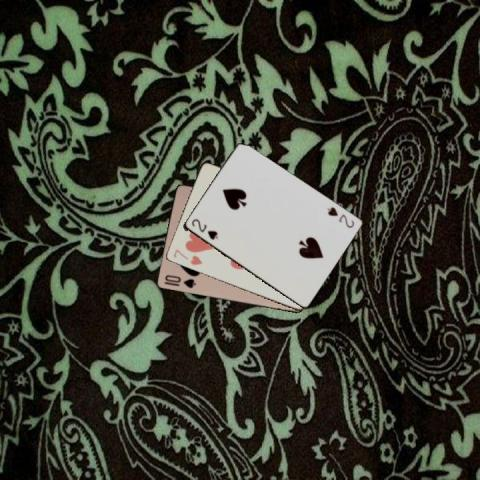10s: (161, 272, 197, 289)
2s: (188, 216, 219, 241), (324, 204, 355, 229)
7h: (170, 246, 203, 267)
